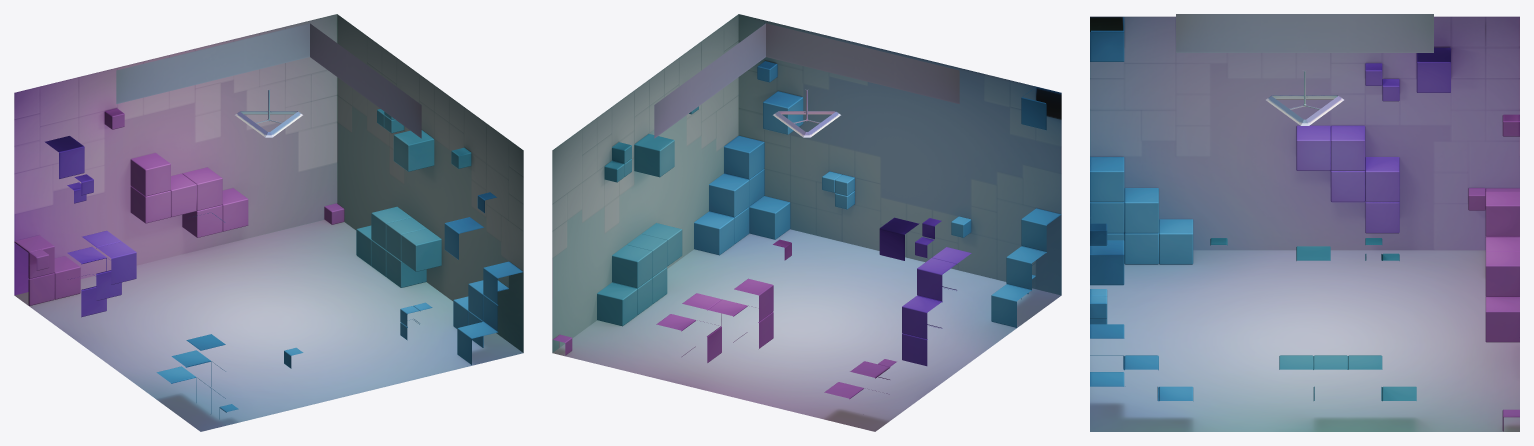
File: Cube Room by Anonymous - 1fahMeqZOw_.glb
The picture shows the model from 3 angles, left to right: view 1: azimuth 30°, elevation 25°; view 2: azimuth 150°, elevation 25°; view 3: azimuth 270°, elevation 25°; orthographic projection. The views are drawn at different scales.
Visible parts, largest first — view 1: CubeRoom_GEO; view 2: CubeRoom_GEO; view 3: CubeRoom_GEO.
Boxes of the visible parts, left/top/right/bottom form: CubeRoom_GEO: left=14, top=14, right=523, bottom=431; CubeRoom_GEO: left=552, top=14, right=1061, bottom=431; CubeRoom_GEO: left=1090, top=14, right=1519, bottom=431.
Size of the model in its own units: 10 by 7 by 10.
Materials: 1 (1 with a texture image).
